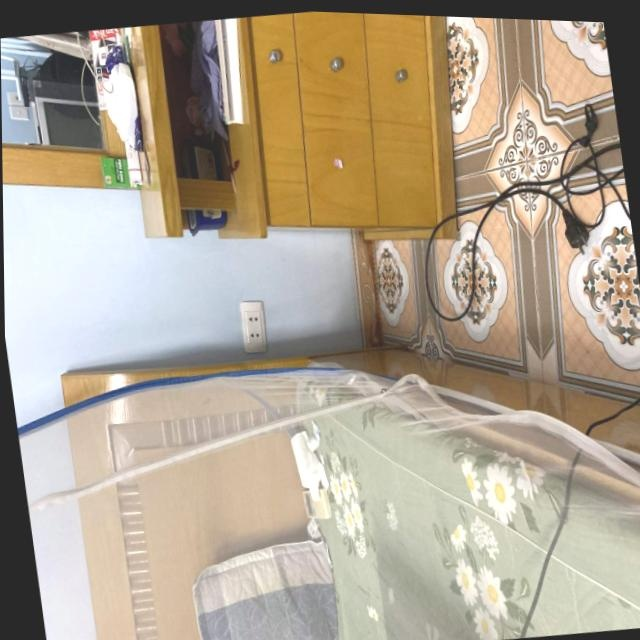outlet: (237, 298, 269, 354)
